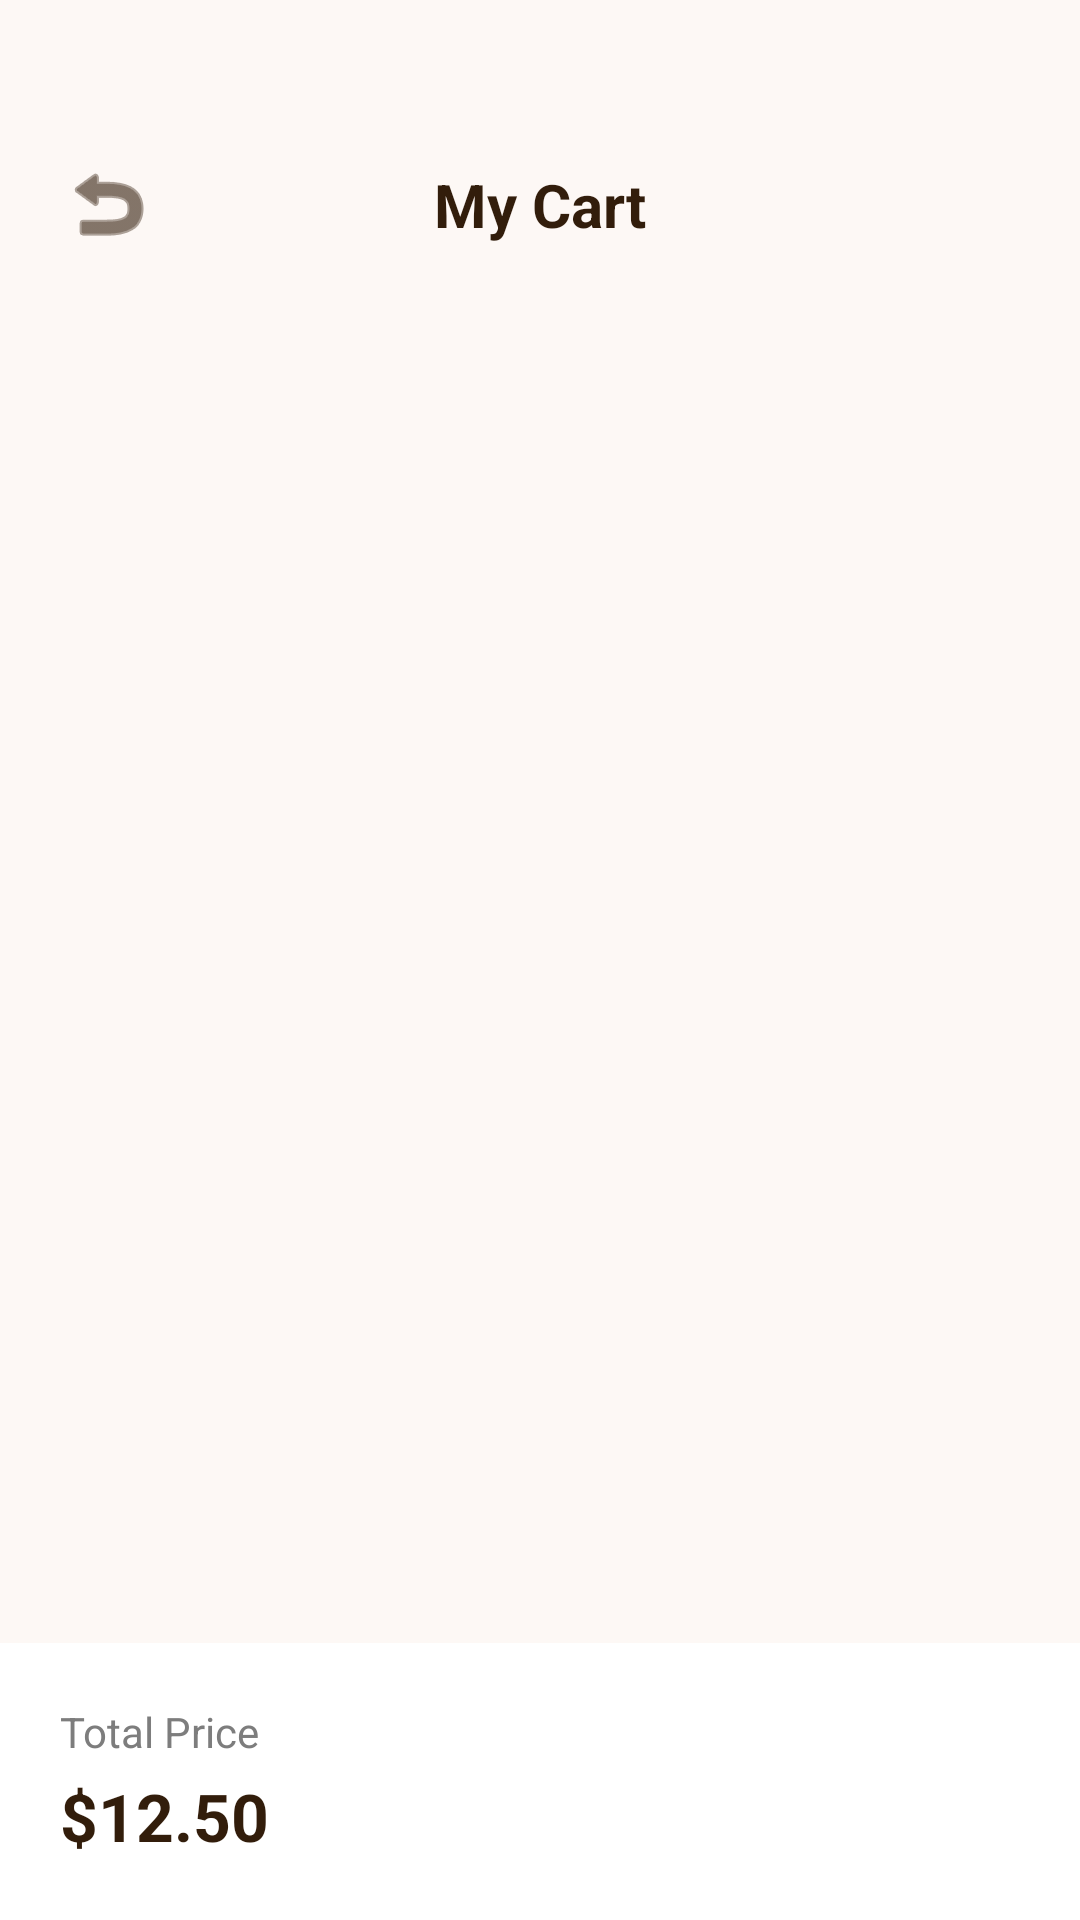

Icons on this 1080×1920 Android screen, each with its box as (x1, y1, x2, y2):
revert: (75, 173, 144, 236)
